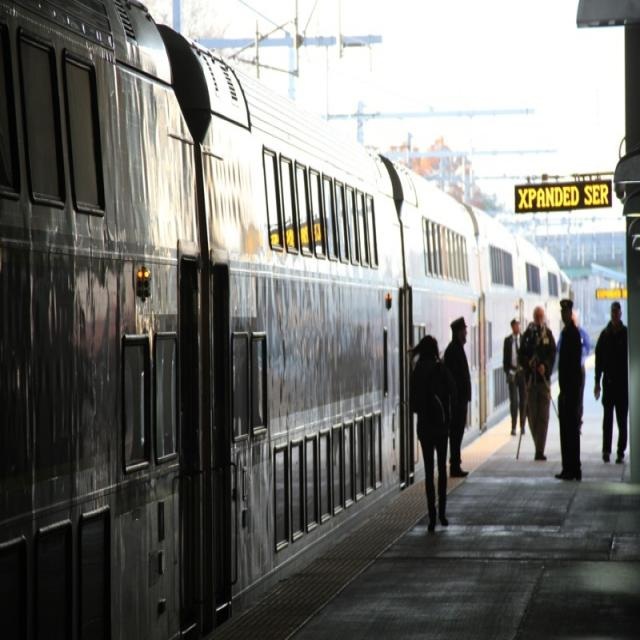body: (404, 332, 453, 538), (514, 302, 556, 464), (438, 312, 474, 480), (552, 296, 584, 484), (593, 301, 629, 464), (554, 304, 591, 430), (502, 316, 530, 438)
